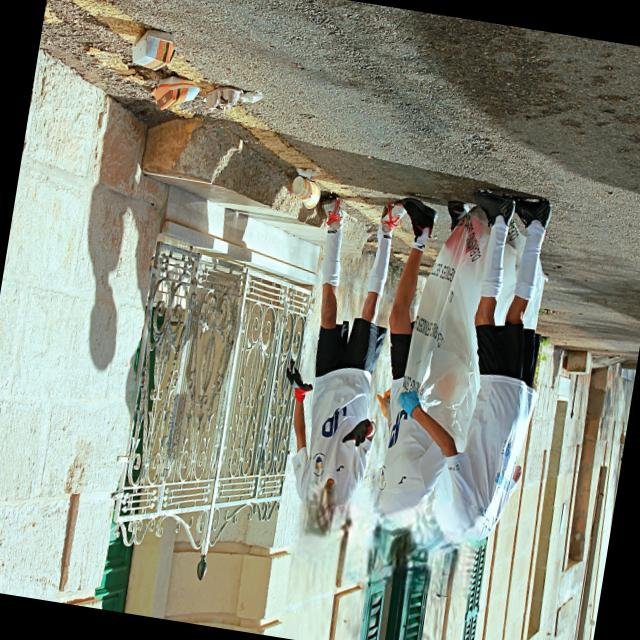Carton: (202, 85, 262, 114)
Cup: (291, 174, 320, 211)
Paper: (132, 28, 177, 72), (152, 74, 202, 112), (295, 167, 316, 179)
